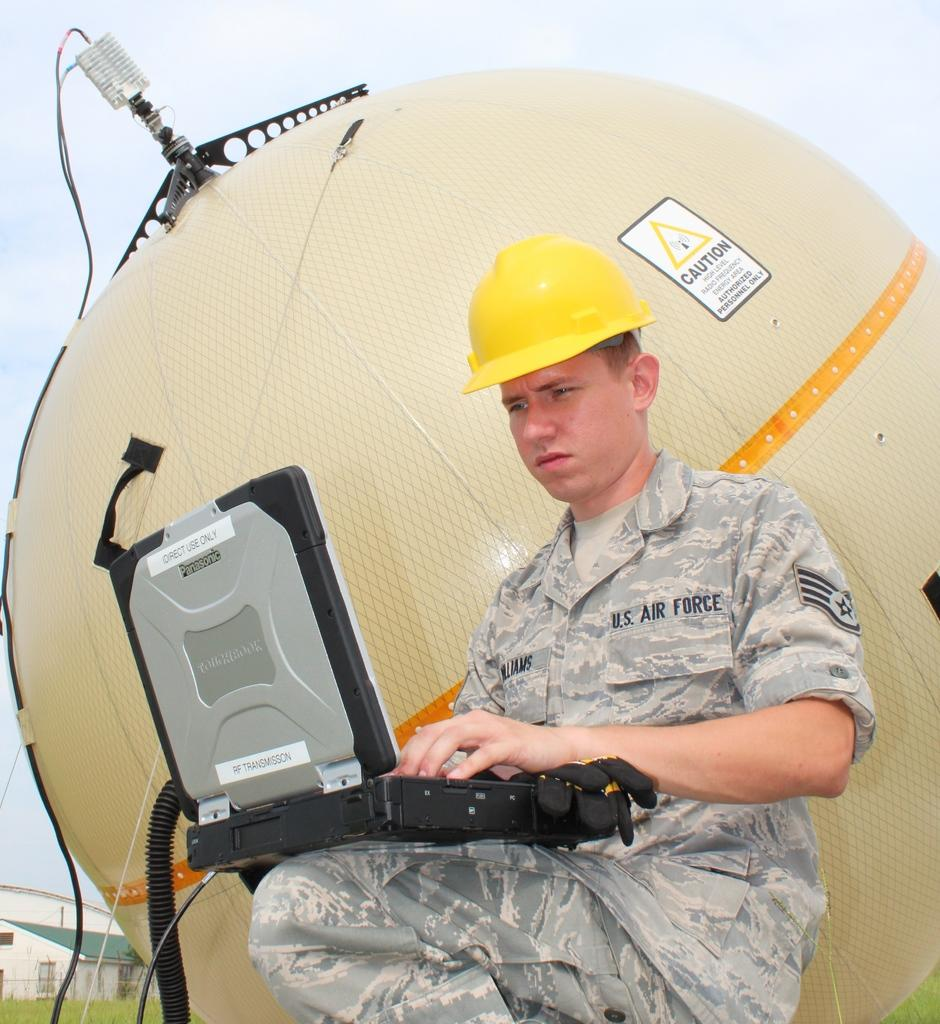Hat: (457, 232, 664, 408)
